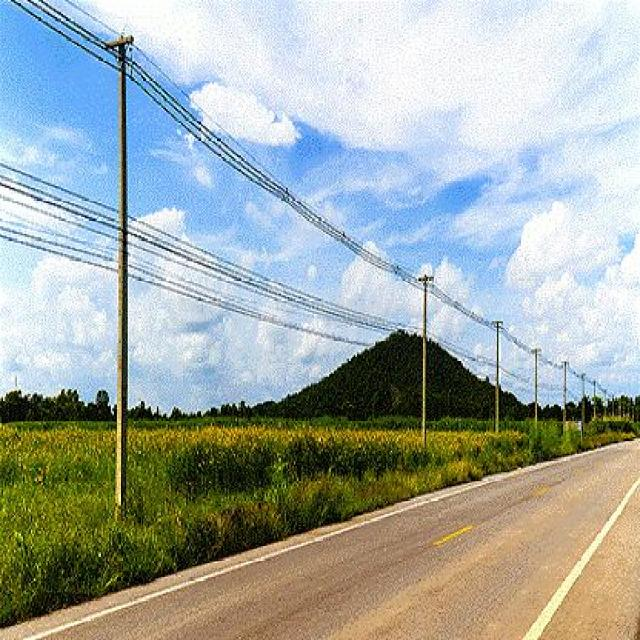pole: (88, 20, 158, 502), (400, 264, 445, 436)
